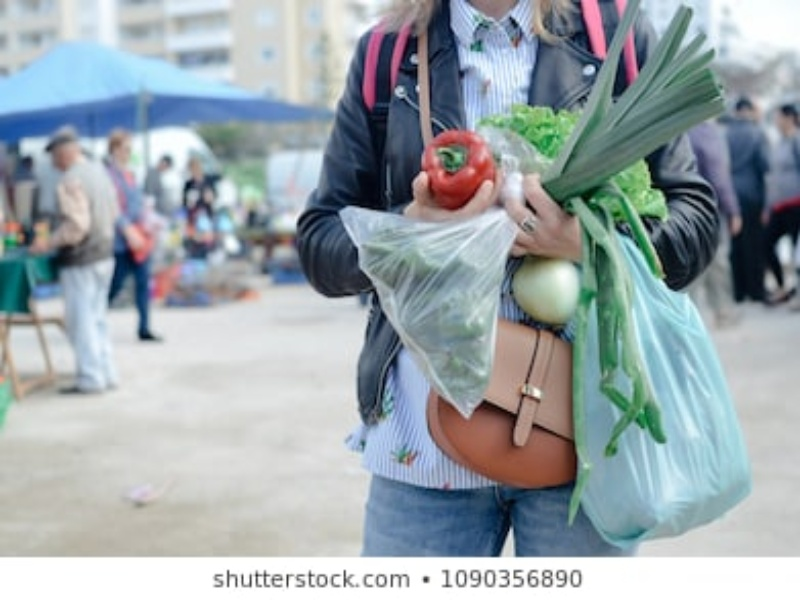plastic-bag: (573, 220, 758, 545), (337, 188, 539, 421)
